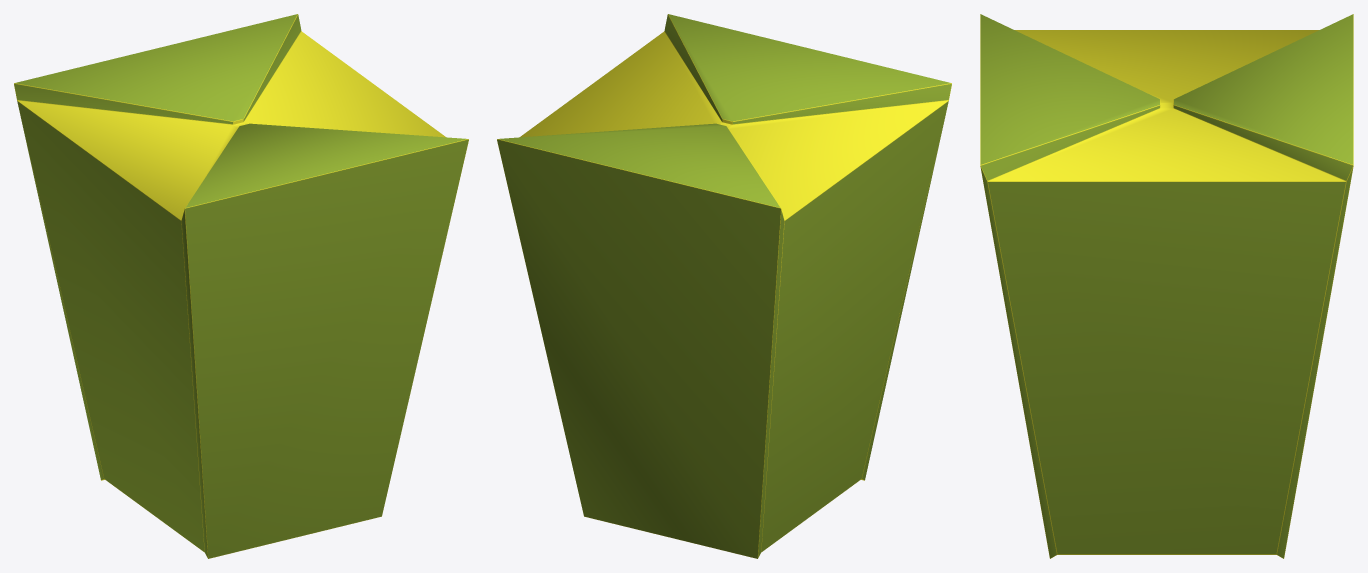
The model's file is SM_Food_1.fbx.
The picture shows the model from 3 angles, left to right: view 1: azimuth 30°, elevation 25°; view 2: azimuth 150°, elevation 25°; view 3: azimuth 270°, elevation 25°; orthographic projection. The views are drawn at different scales.
Parts seen in each view (by area): view 1: SM_Food_1_LOD0; view 2: SM_Food_1_LOD0; view 3: SM_Food_1_LOD0.
Boxes of the visible parts, x1,y1,x2,y2 form: SM_Food_1_LOD0: (14,14,468,558); SM_Food_1_LOD0: (497,14,951,558); SM_Food_1_LOD0: (980,14,1353,558).
Bounding box in the file's own units: 12.21 × 12.71 × 15.9.
